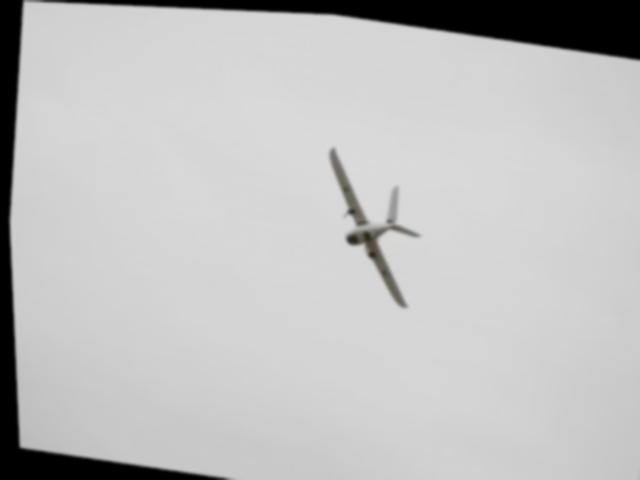uav: (291, 127, 439, 316)
